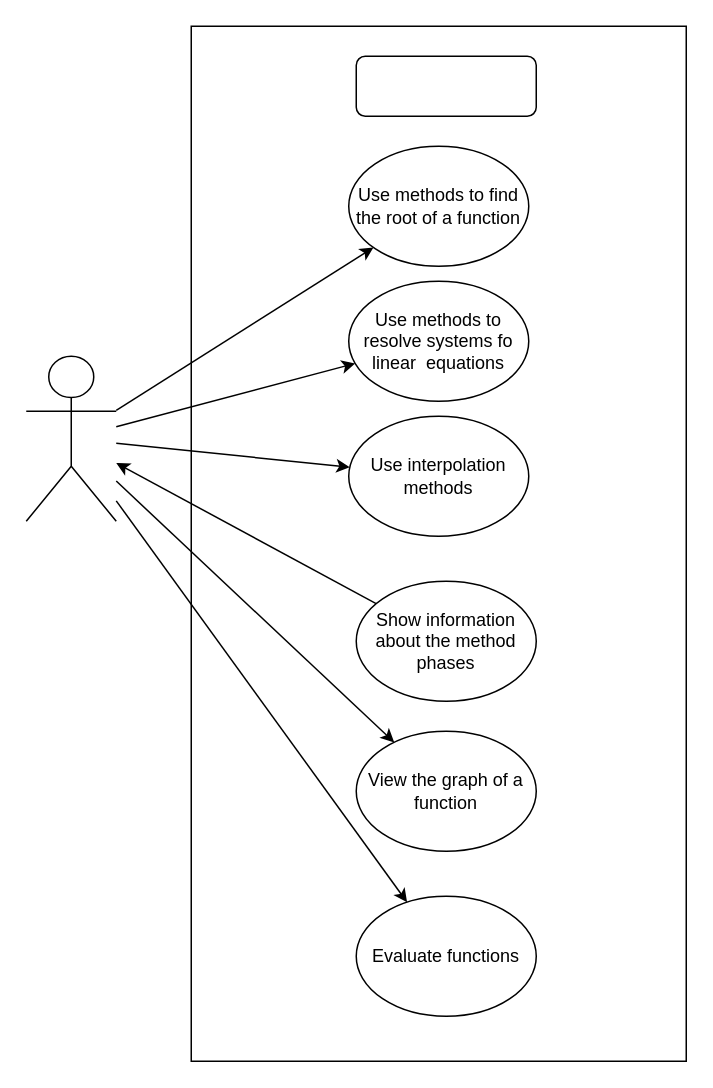
Image size: 713x1088. Some labels were removed from this diagram. Each missing label, with the centre of its shape:
User: [70,438]
Web application: [445,85]
